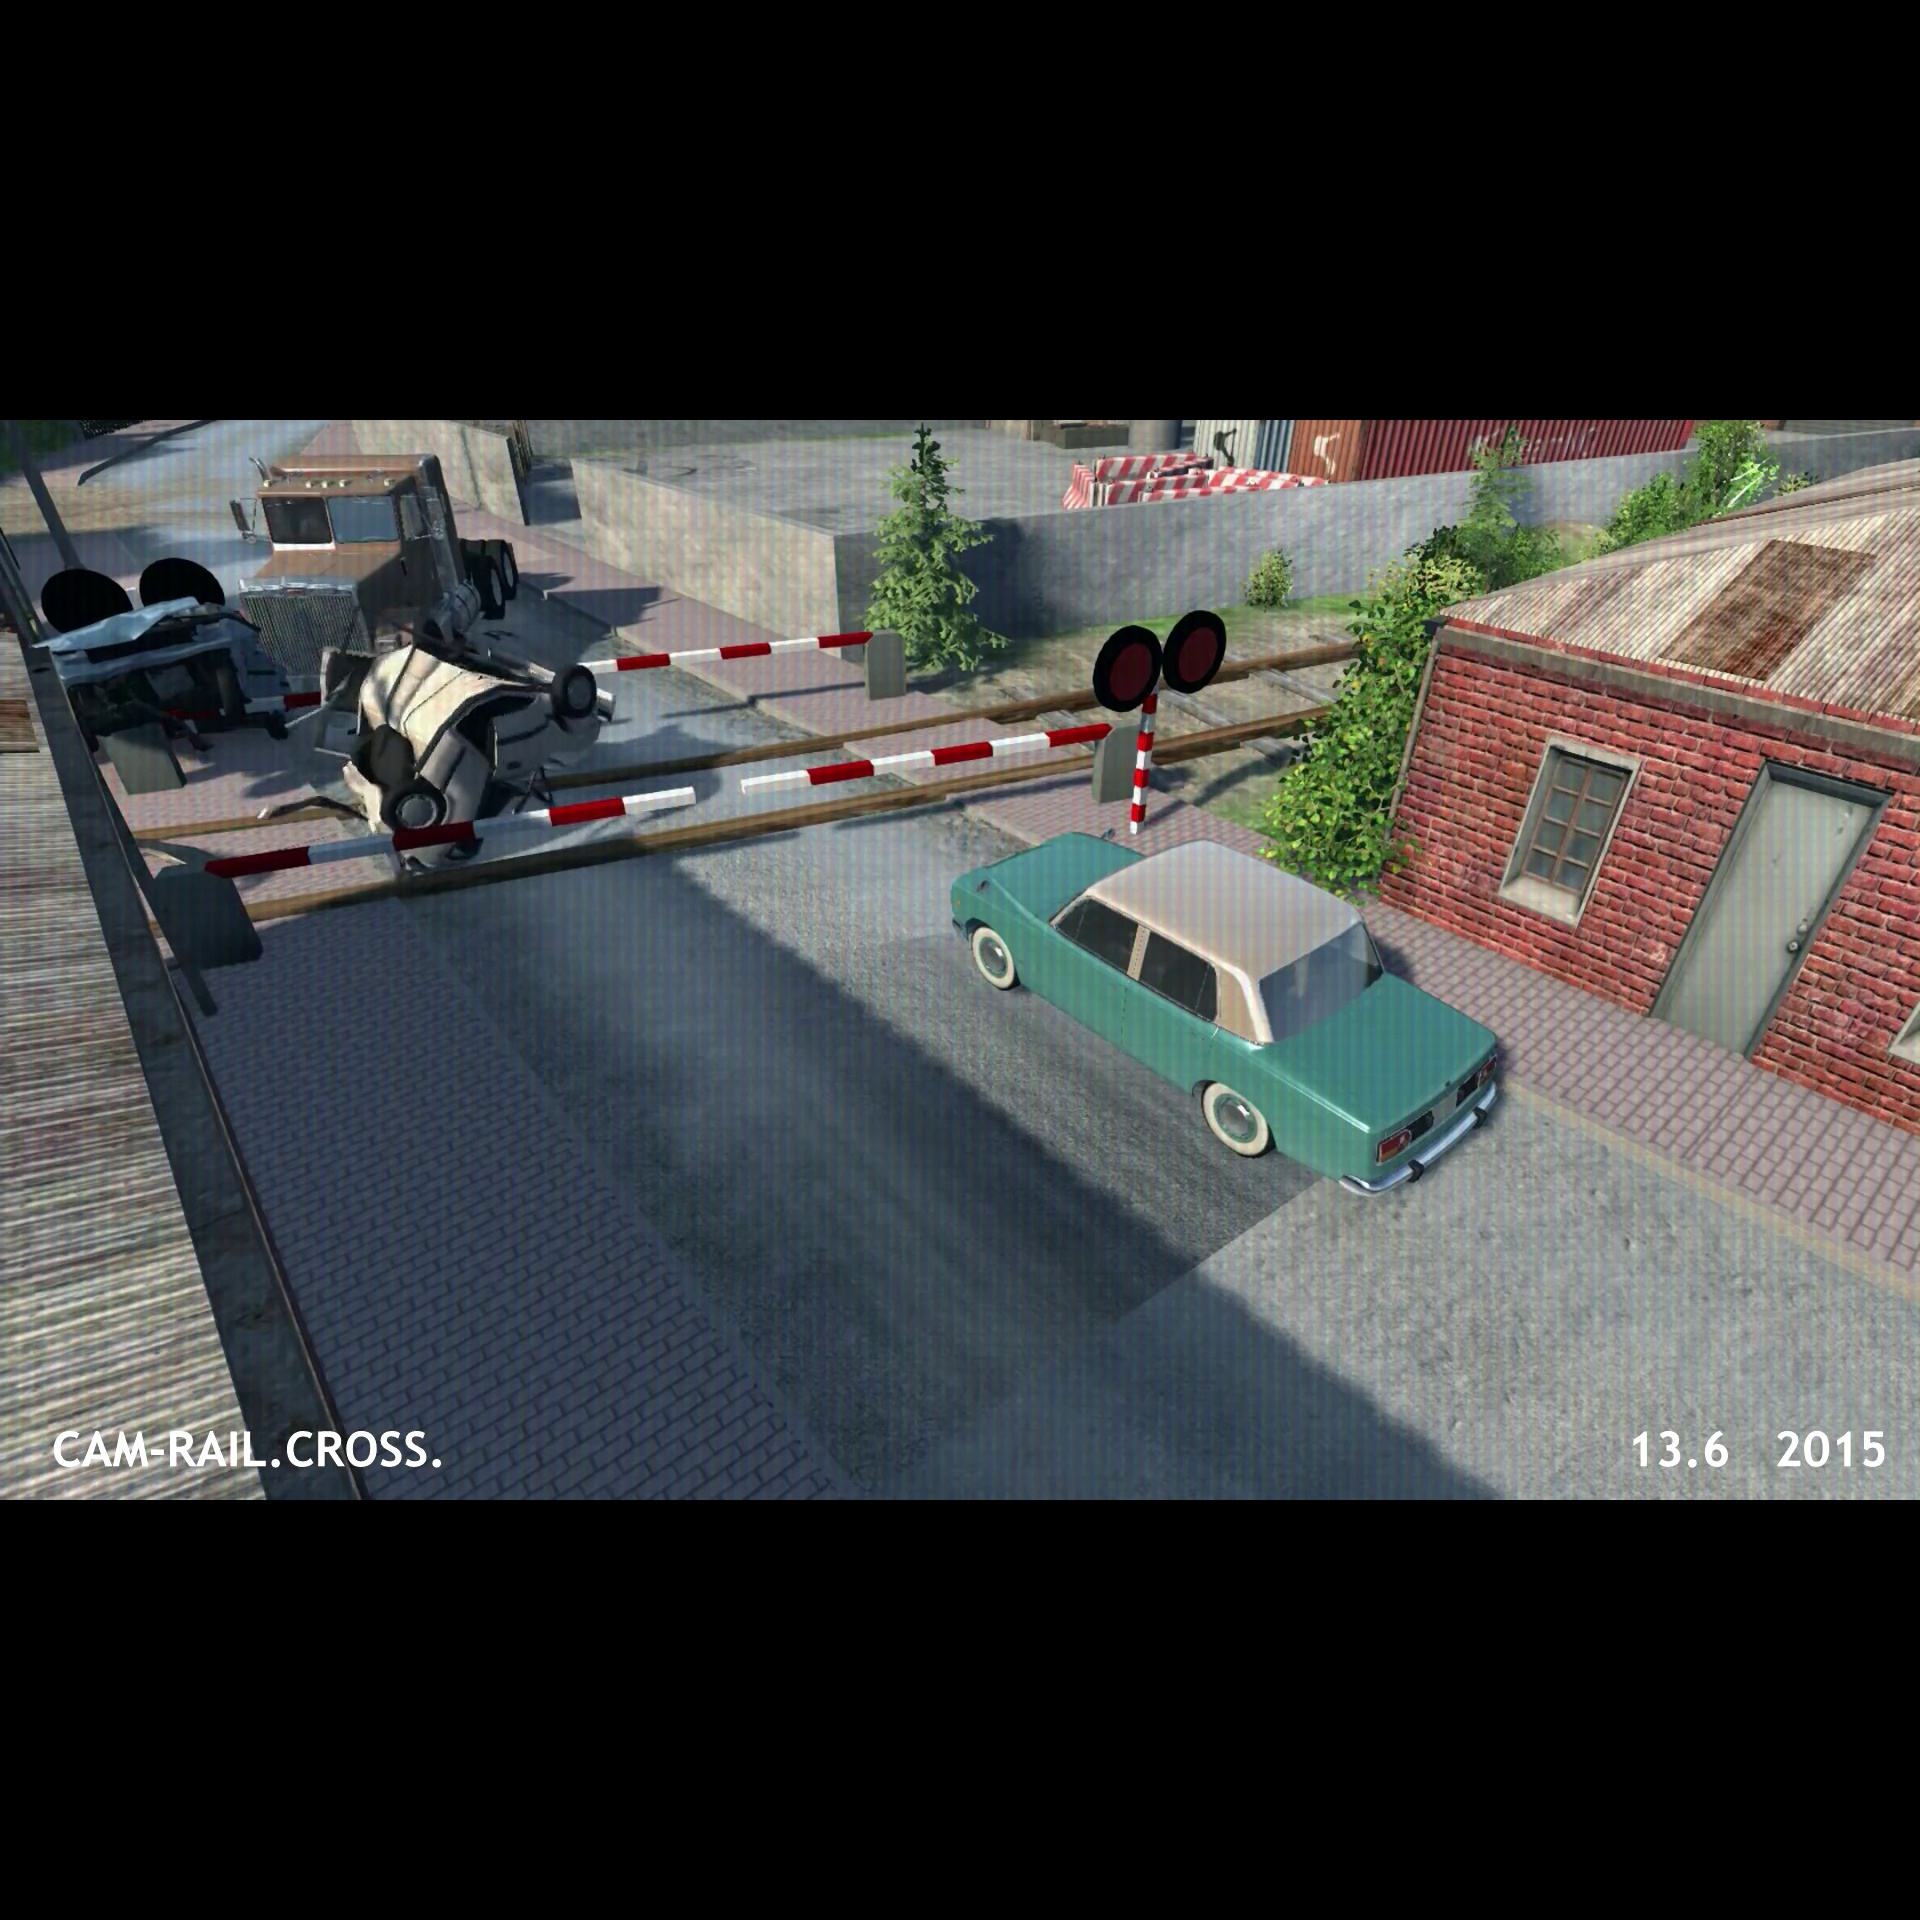vehicle: (939, 804, 1517, 1201), (327, 622, 633, 879), (243, 445, 526, 682), (53, 587, 294, 747)
